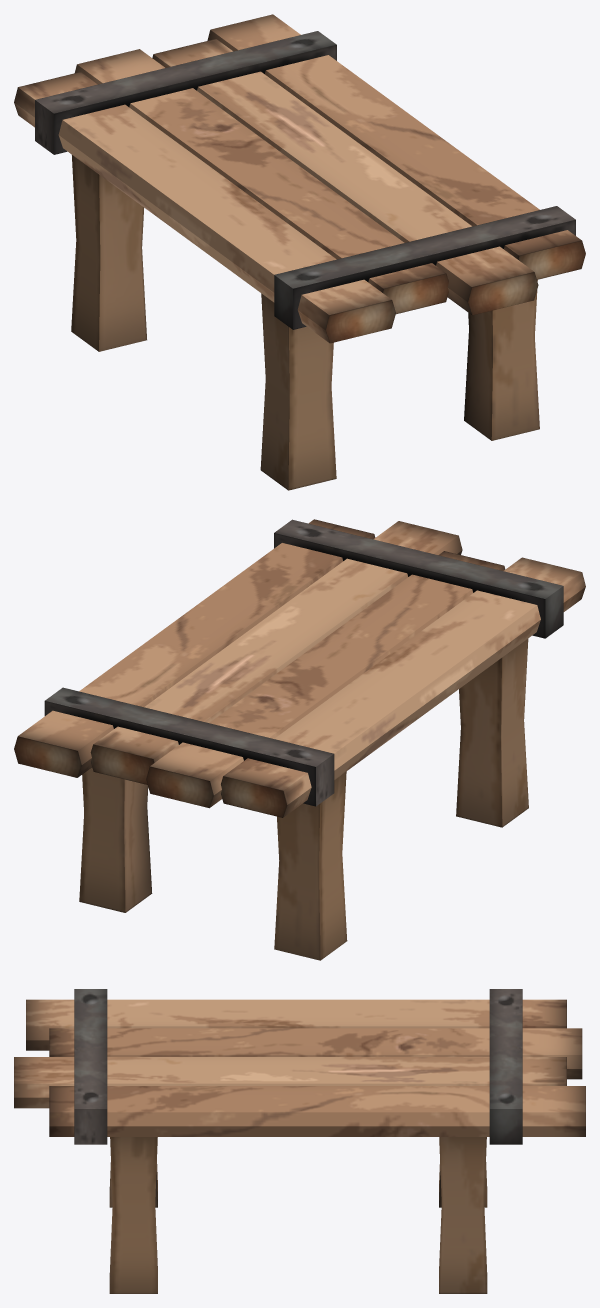
Rendered from Table1.fbx.
3 views of the same model, one above another, from view 1: azimuth 30°, elevation 25°; view 2: azimuth 150°, elevation 25°; view 3: azimuth 270°, elevation 25° (orthographic). The views are drawn at different scales.
Parts seen in each view (by area): view 1: Cube.003; view 2: Cube.003; view 3: Cube.003.
Part boxes in pixels (box(x1,y1,x2,y2)): Cube.003: box(14, 14, 585, 490); Cube.003: box(14, 519, 585, 960); Cube.003: box(14, 989, 585, 1293).
Bounding box in the file's own units: 209 × 156 × 421.
